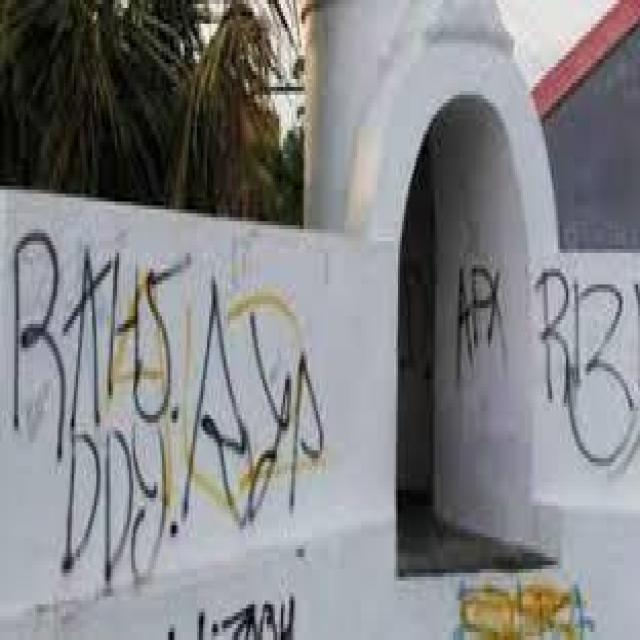nonspitting: (12, 229, 324, 589), (535, 268, 640, 478), (454, 576, 594, 640), (168, 592, 294, 640), (456, 265, 504, 384)
